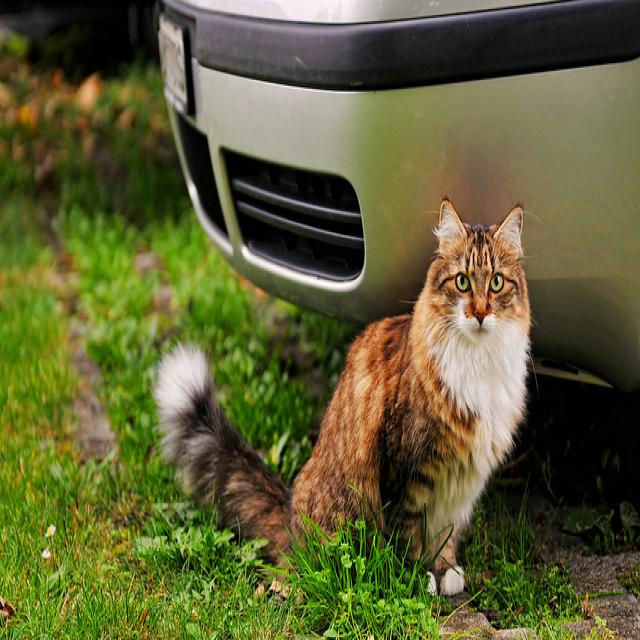Vehicle: (183, 0, 639, 396)
